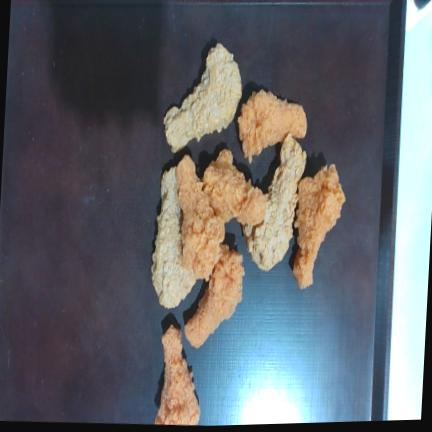chicken: (164, 43, 242, 152), (244, 134, 306, 270), (151, 167, 197, 308), (293, 164, 345, 288), (185, 245, 244, 348), (177, 155, 225, 279), (238, 89, 307, 163), (203, 149, 265, 224), (155, 325, 200, 425)
